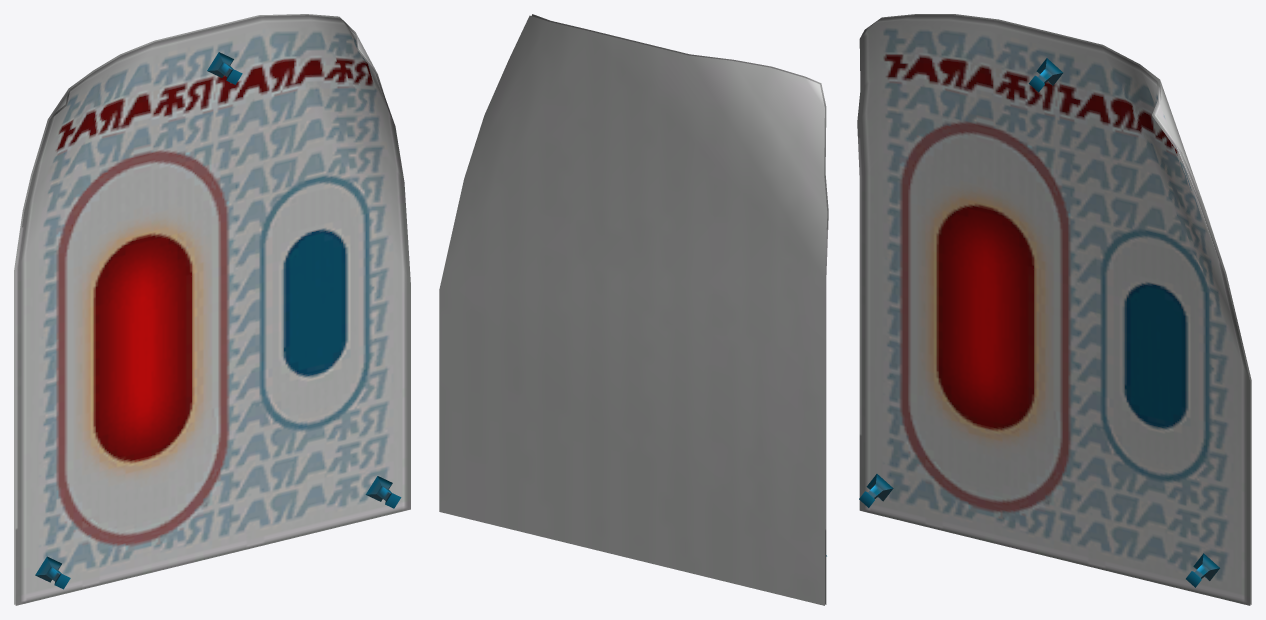
File: poster.gltf
The picture shows the model from 3 angles, left to right: view 1: azimuth 30°, elevation 25°; view 2: azimuth 150°, elevation 25°; view 3: azimuth 330°, elevation 25°; orthographic projection. The views are drawn at different scales.
Parts seen in each view (by area): view 1: s4studio_mesh_0; view 2: s4studio_mesh_0; view 3: s4studio_mesh_0.
Part boxes in pixels (x1,y1,x2,y2): s4studio_mesh_0: (14,14,410,605); s4studio_mesh_0: (439,14,828,605); s4studio_mesh_0: (857,14,1251,605).
Size of the model in its own units: 0.5847 by 0.7492 by 0.0635.
Materials: 1 (1 with a texture image).
